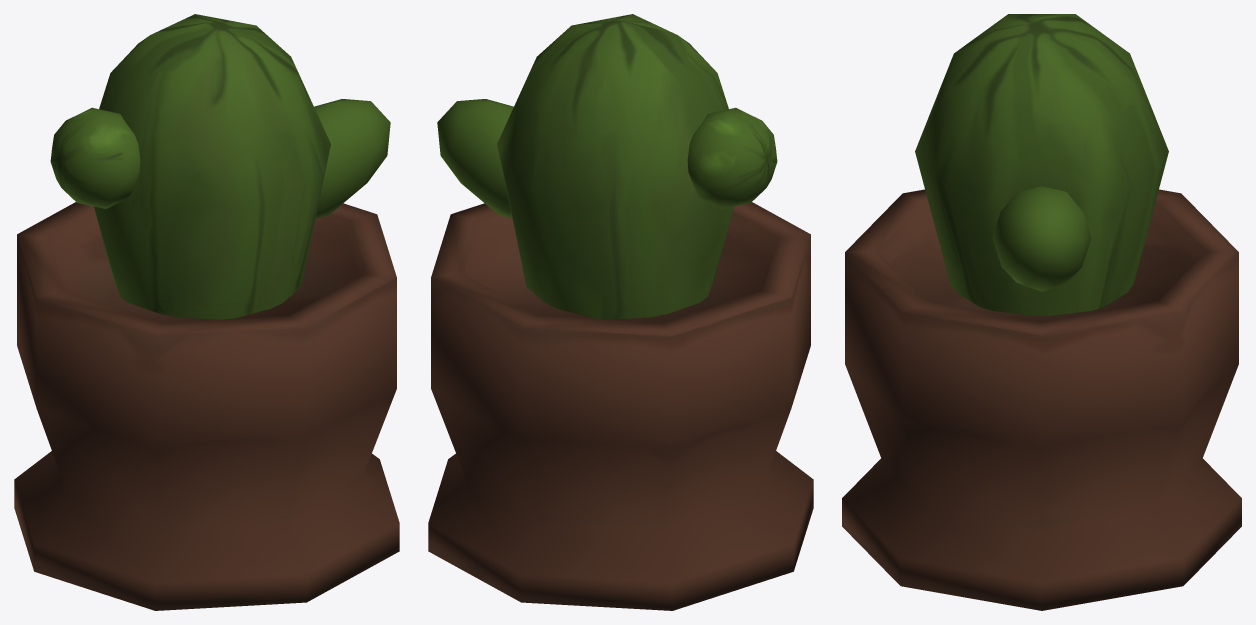
File: CityKit2.fbx_CactusPot.fbx
The picture shows the model from 3 angles, left to right: view 1: azimuth 30°, elevation 25°; view 2: azimuth 150°, elevation 25°; view 3: azimuth 270°, elevation 25°; orthographic projection.
Visible parts, largest first — view 1: CactusPot; view 2: CactusPot; view 3: CactusPot.
Boxes of the visible parts, left/top/right/bottom form: CactusPot: left=14, top=14, right=399, bottom=610; CactusPot: left=428, top=14, right=813, bottom=610; CactusPot: left=842, top=14, right=1241, bottom=610.
Size of the model in its own units: 69.55 by 95.97 by 68.52.
Materials: 1 (1 with a texture image).
